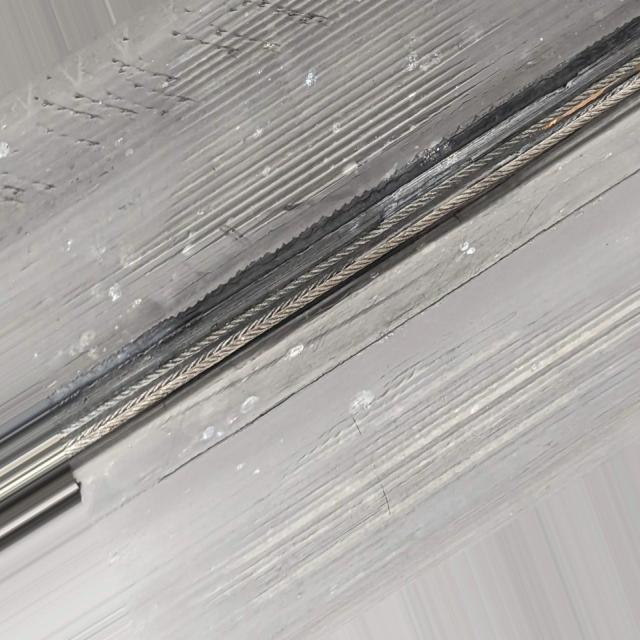Tear: (0, 0, 355, 232)
impact damage: (64, 33, 640, 458), (119, 28, 496, 308)
